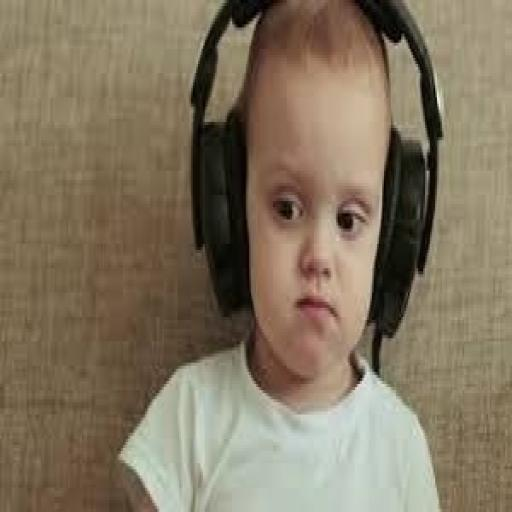listening_to_music: (112, 0, 446, 509)
